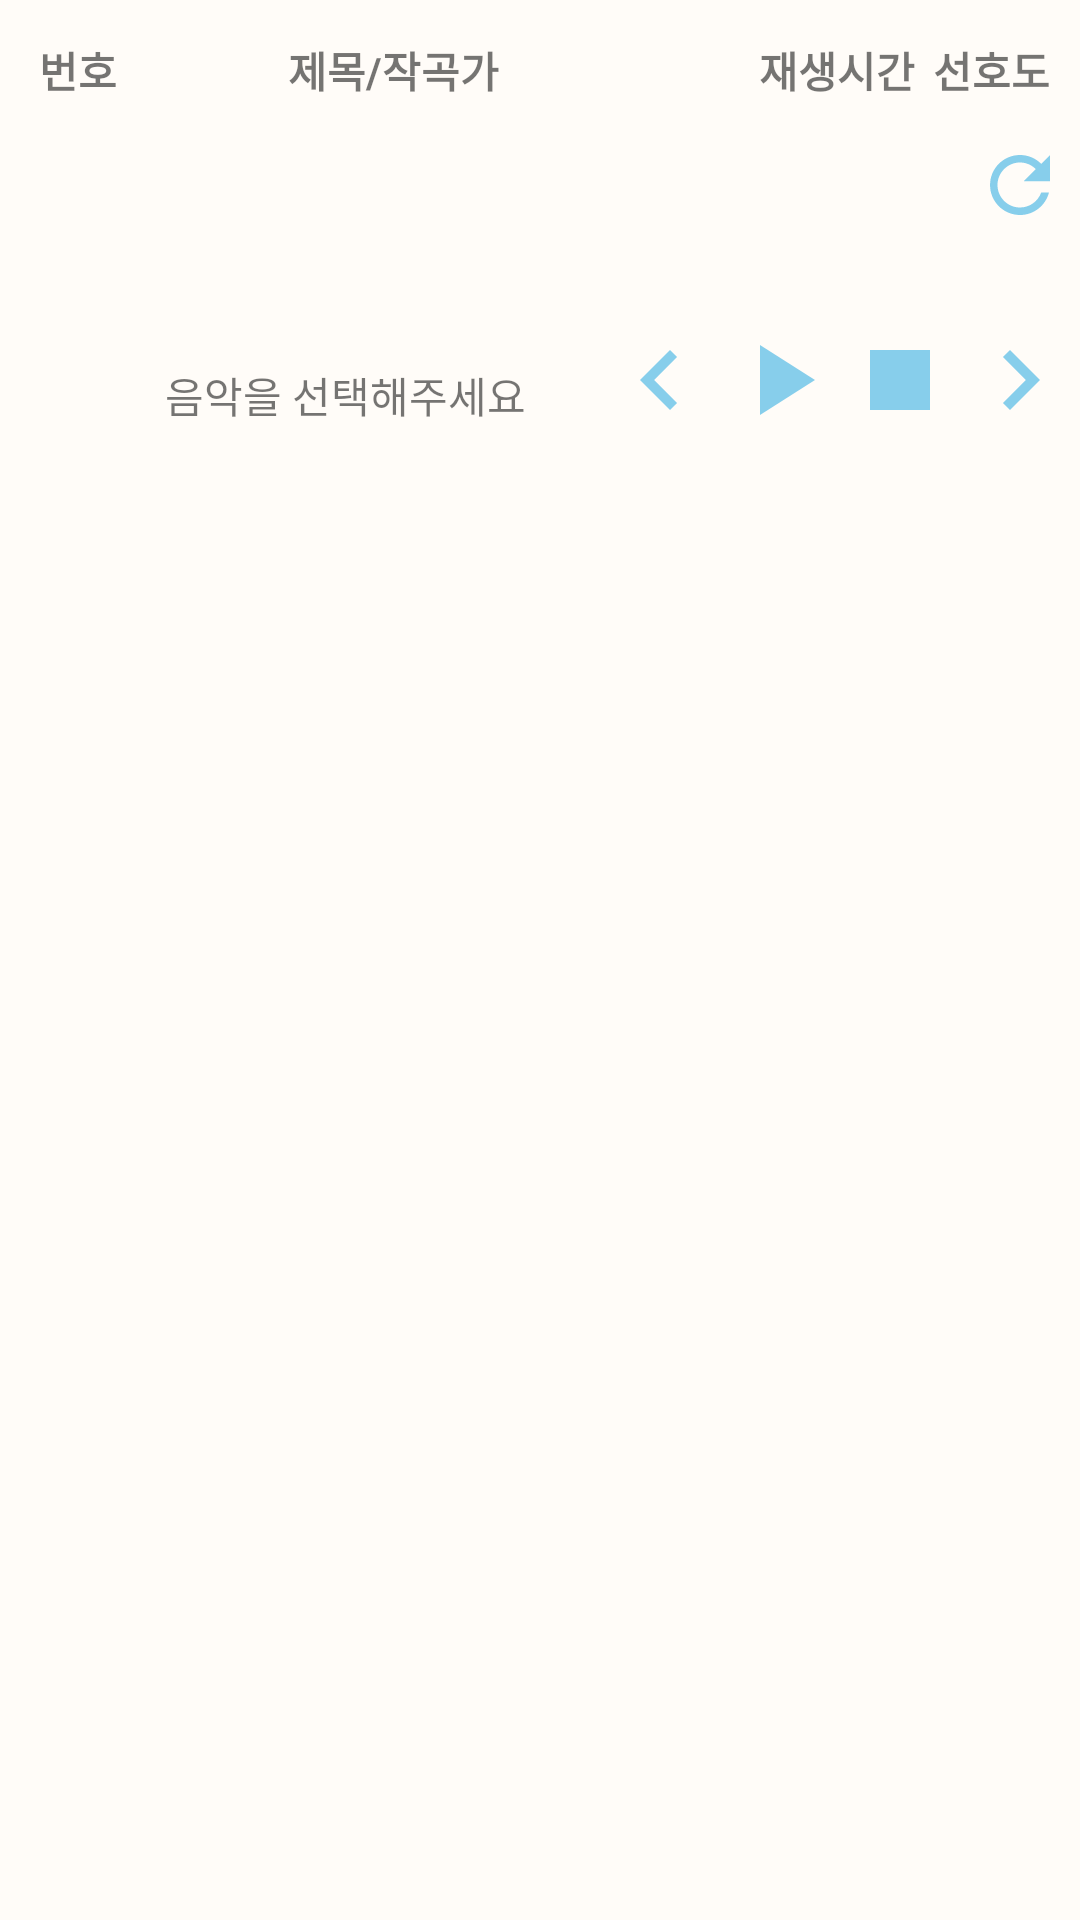

Icon bounding boxes for this 1080w x 1920h phone screenshot, format (x1, y1, x2, y2):
chevron right: (1003, 350, 1040, 410)
play: (760, 345, 815, 415)
pre: (640, 350, 677, 410)
refresh: (990, 155, 1050, 215)
